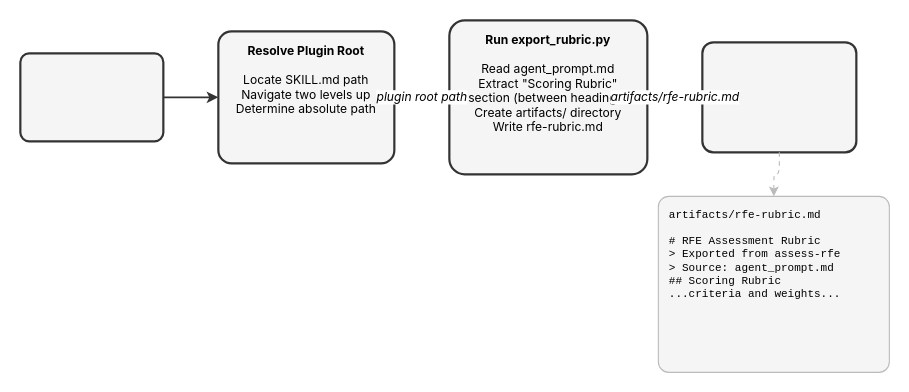
The diagram is 909 pixels wide and 392 high, and some of its shapes have lost their labels. Here are the shapes that lost their labels. From the top down, the centre of each, then its label:
At pixel 91 97: "/export-rubric No arguments".
At pixel 779 97: "Confirm Output Verify file written Print absolute path".
